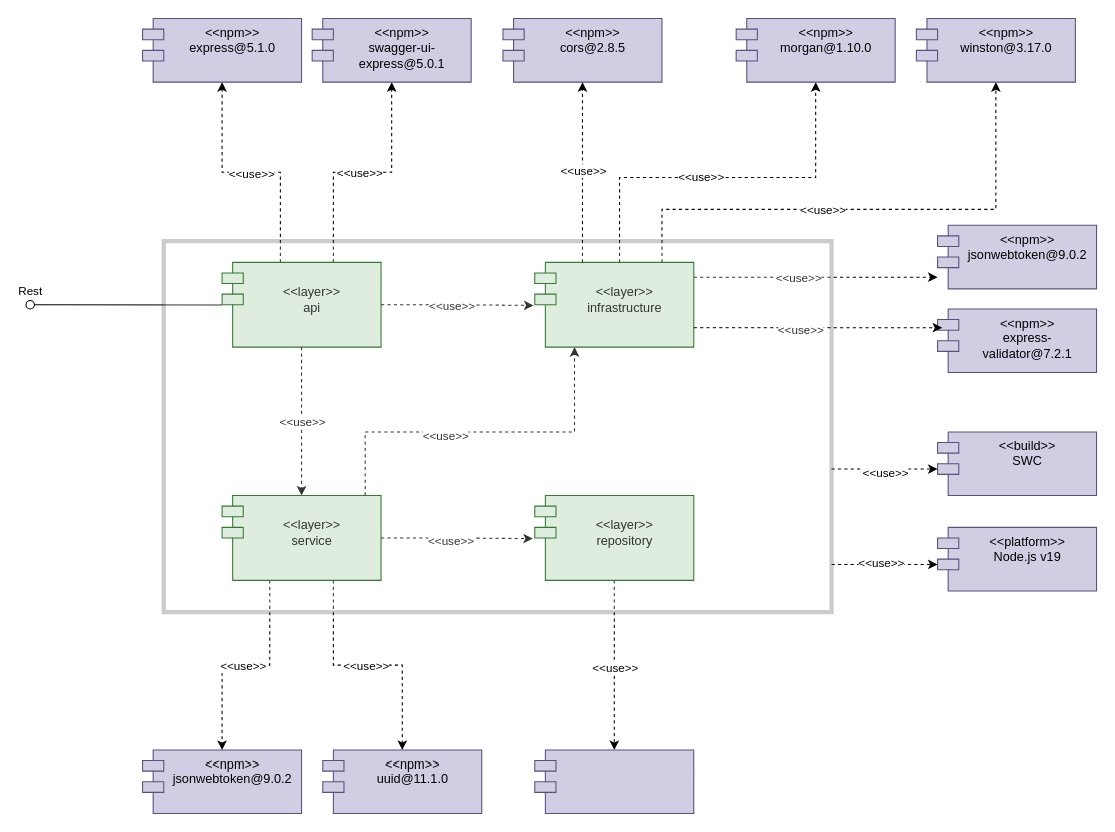
Some shapes in this 1115 by 832 pixel diagram are drawn without their labels. Here are the shapes that lost their labels. From the top down, the centre of each, then its label:
At pixel 497 426: "Componente Centralizador".
At pixel 614 781: "<<npm>> pg@8.16.0".
